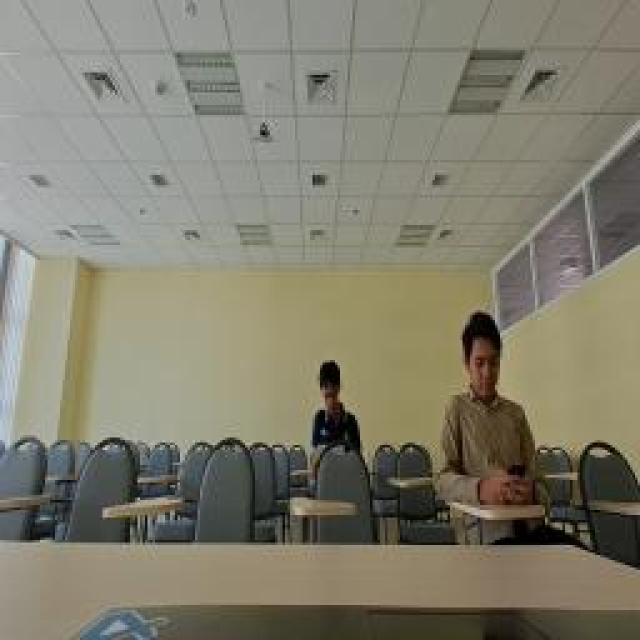phone: (435, 302, 547, 510)
study: (310, 358, 365, 500)
